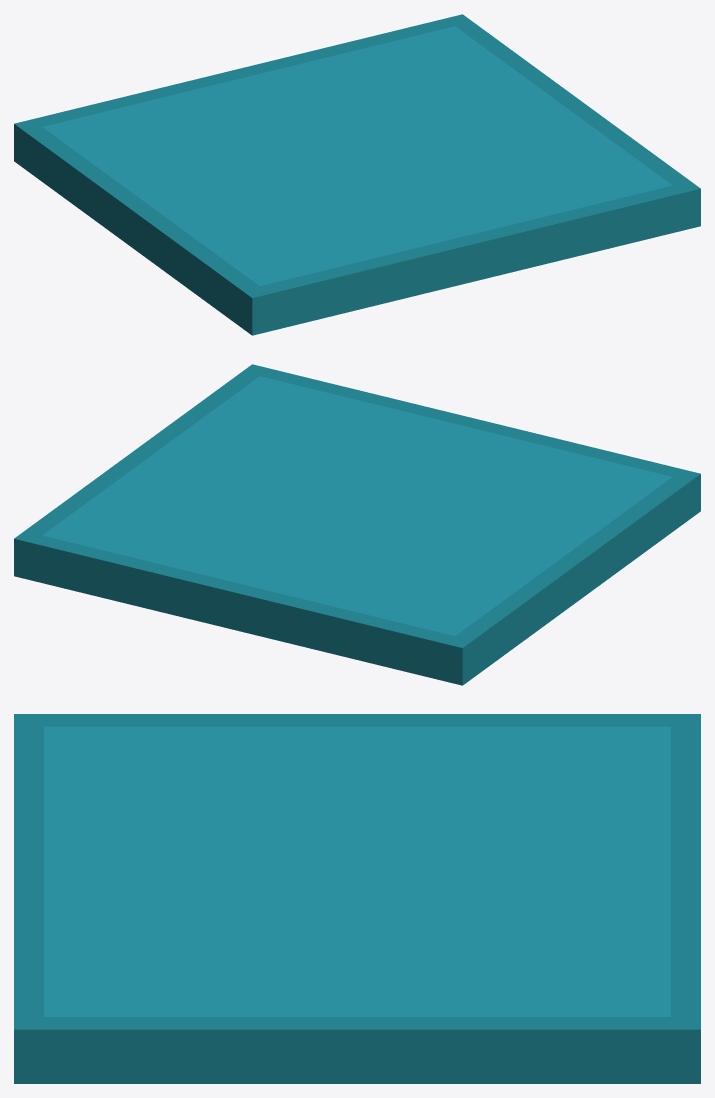
Rendered from ice floor.gltf.
3 renders of one model, top to bottom at view 1: azimuth 30°, elevation 25°; view 2: azimuth 150°, elevation 25°; view 3: azimuth 270°, elevation 25°, orthographic. The views are drawn at different scales.
Parts seen in each view (by area): view 1: Layer.1; view 2: Layer.1; view 3: Layer.1.
Part boxes in pixels (x1,y1,x2,y2): Layer.1: [14, 14, 700, 335]; Layer.1: [14, 364, 700, 685]; Layer.1: [14, 714, 700, 1083].
Bounding box in the file's own units: 25 × 2 × 23.
1 material, 1 textured.
